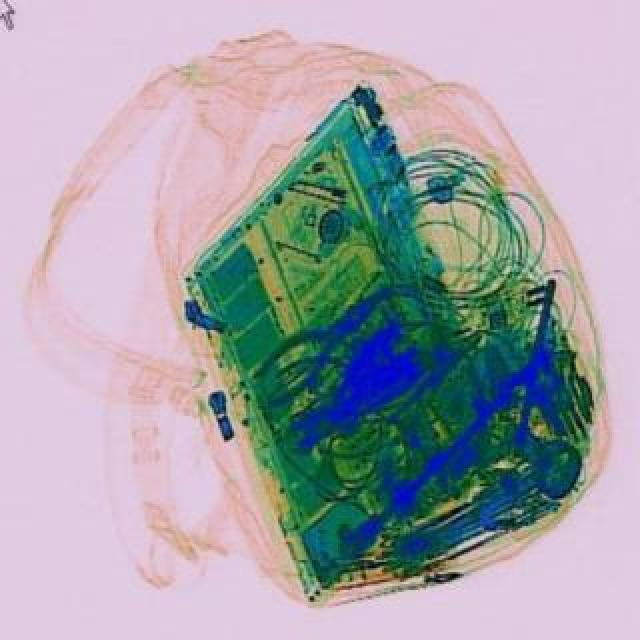wrench: (240, 268, 404, 408)
